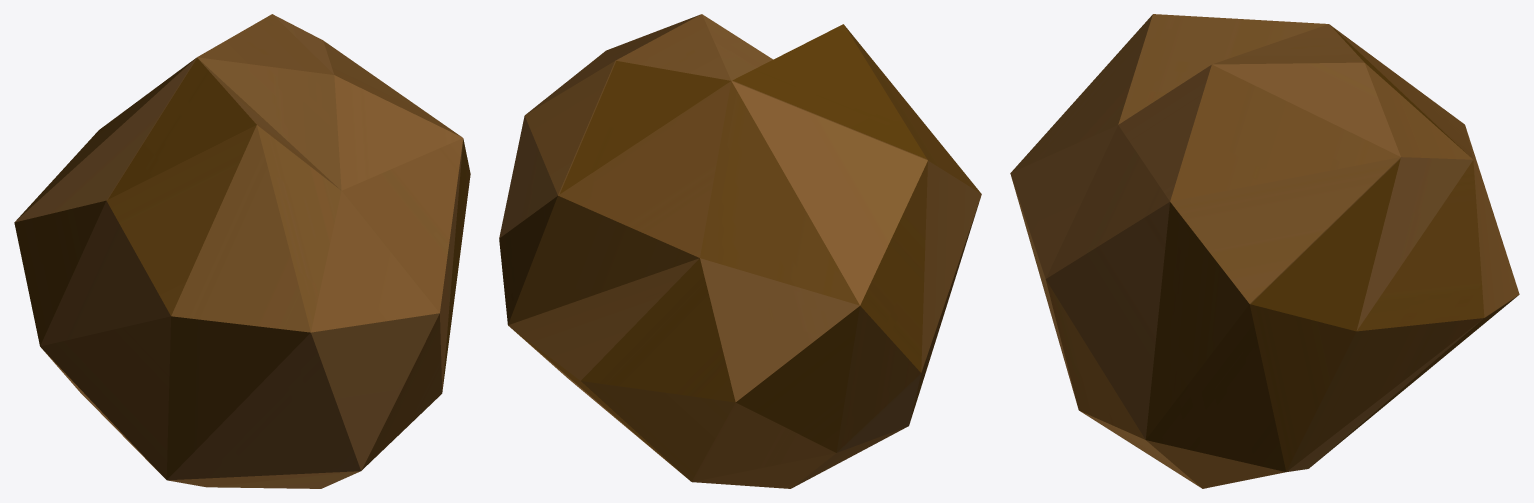
Rendered from small rock_brown.fbx.
3 renders of one model, left to right at view 1: azimuth 30°, elevation 25°; view 2: azimuth 150°, elevation 25°; view 3: azimuth 270°, elevation 25°, orthographic. The views are drawn at different scales.
Parts seen in each view (by area): view 1: Landscape; view 2: Landscape; view 3: Landscape.
Part boxes in pixels (bbox=[...]): Landscape: bbox=[14, 14, 470, 488]; Landscape: bbox=[499, 14, 981, 488]; Landscape: bbox=[1010, 14, 1519, 488].
Bounding box in the file's own units: 226 × 221 × 232.
